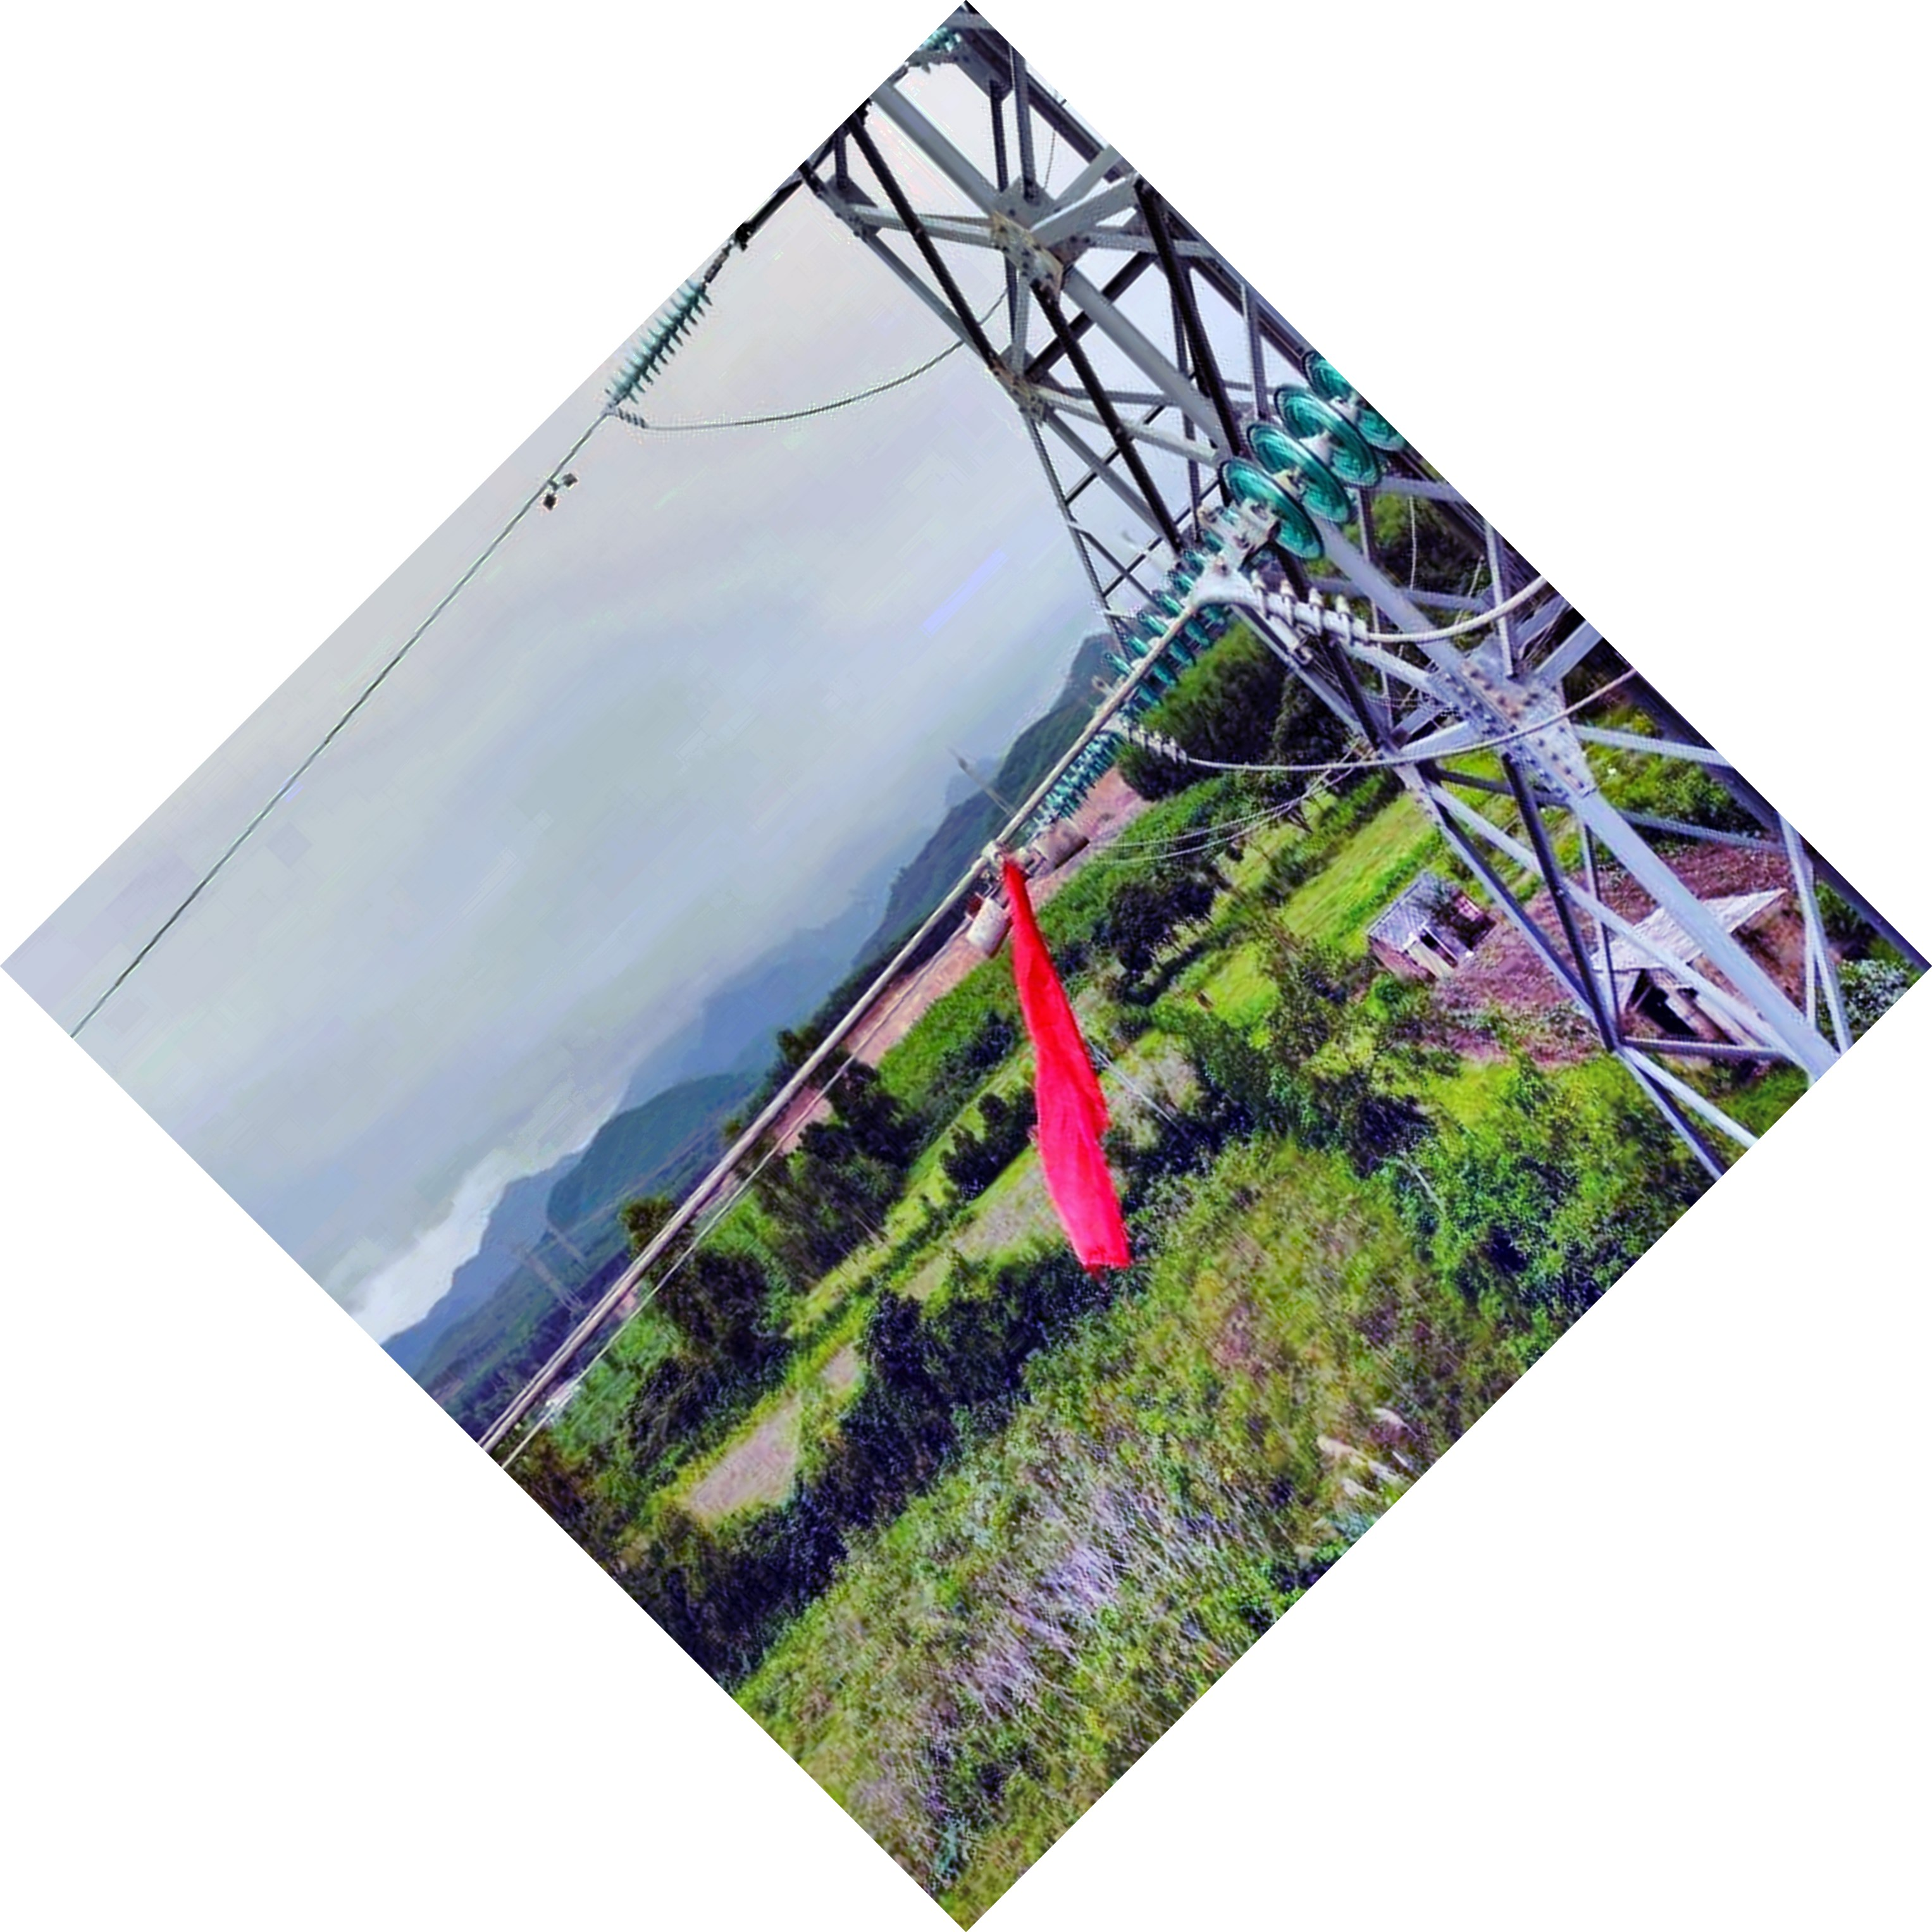wire foreign body: (948, 833, 1164, 1293)
